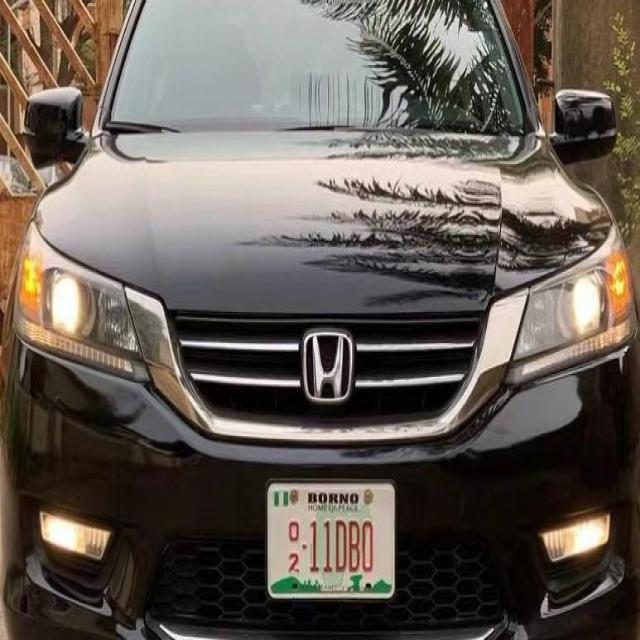Nigerian License Plate - vdataset benjamin-daria: (265, 479, 398, 601)
